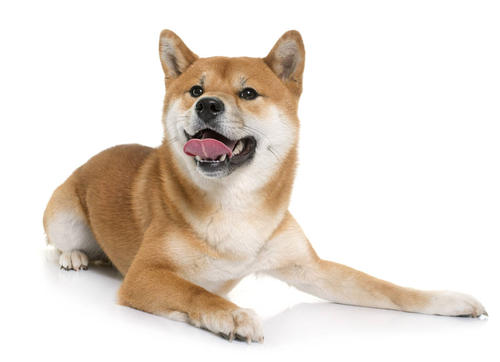dog: (151, 21, 310, 198)
